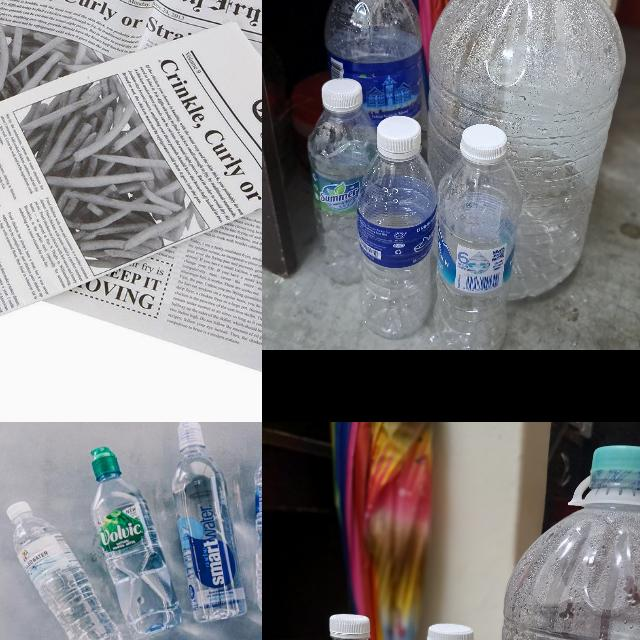garrafa plástica: (426, 0, 625, 300), (495, 477, 640, 640), (434, 156, 522, 350), (88, 475, 182, 639), (168, 447, 250, 625), (14, 514, 124, 640), (358, 156, 434, 338), (325, 0, 425, 137), (306, 109, 374, 287)
papel: (0, 0, 262, 378)
tampa plástica: (460, 123, 508, 161), (375, 116, 421, 154), (591, 445, 640, 476), (322, 78, 362, 112), (330, 613, 370, 639), (177, 422, 205, 454), (427, 623, 474, 640), (92, 455, 122, 481), (5, 499, 35, 523)
